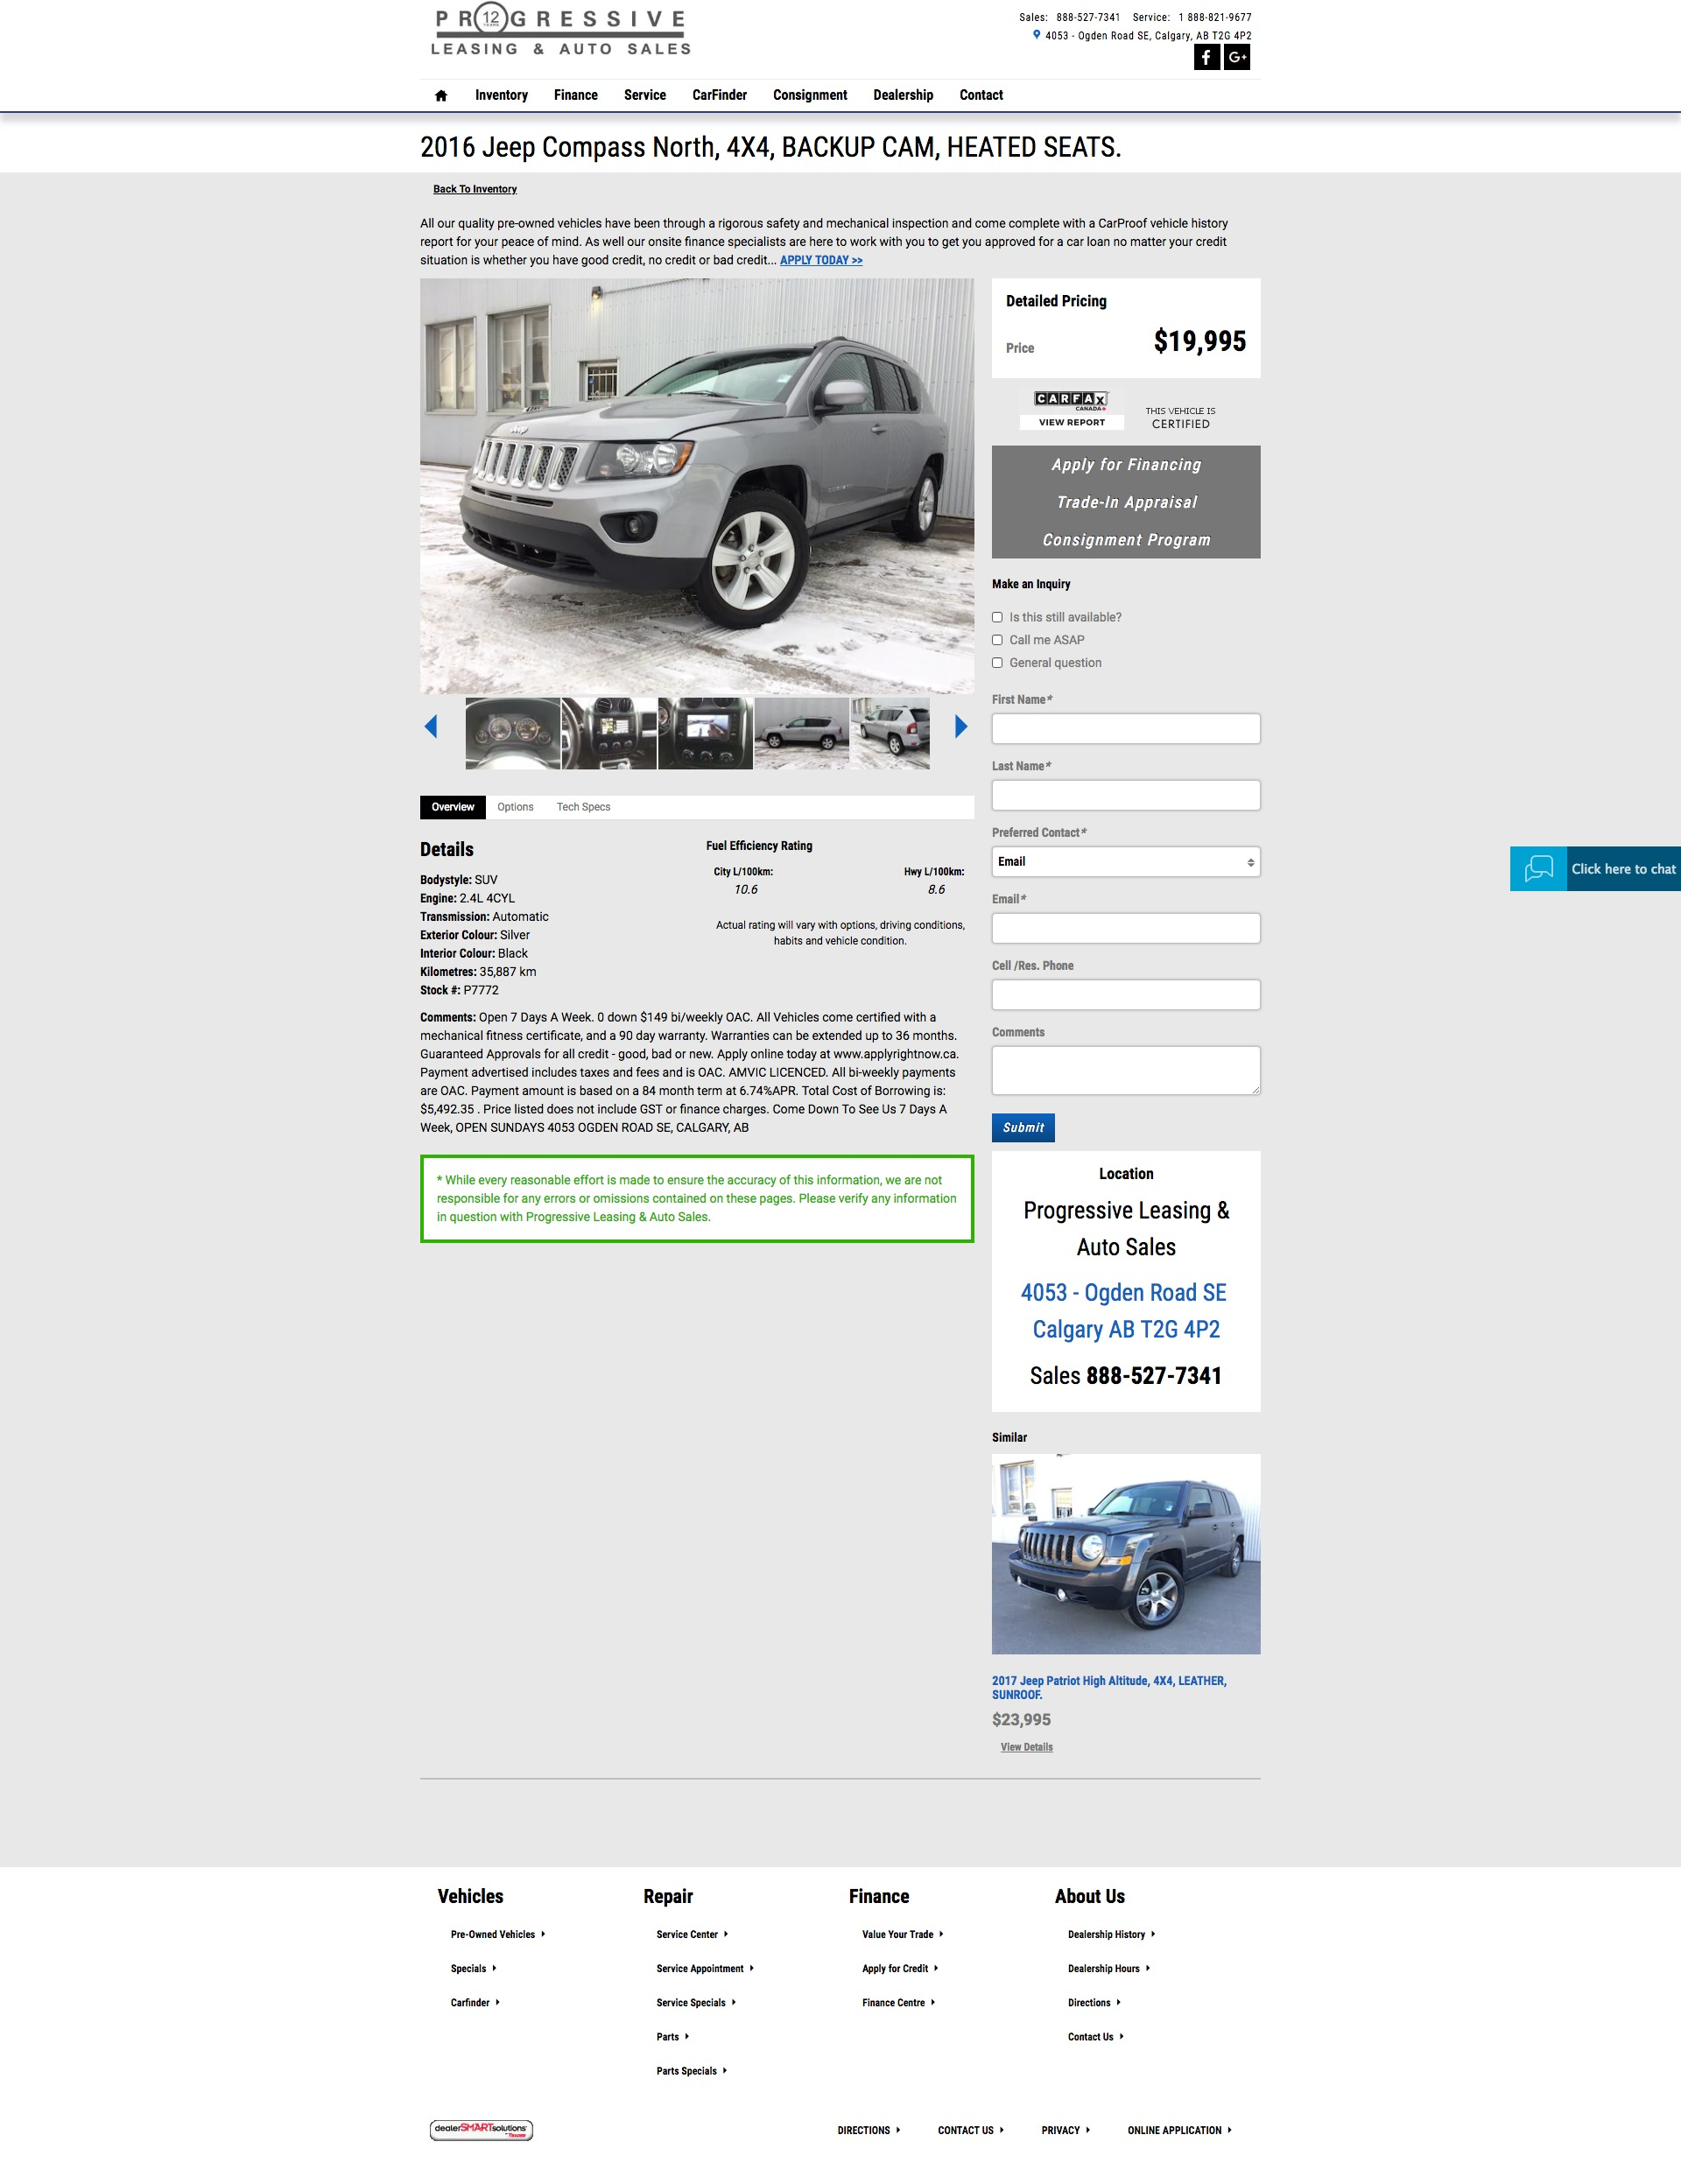car: (955, 715, 969, 742)
